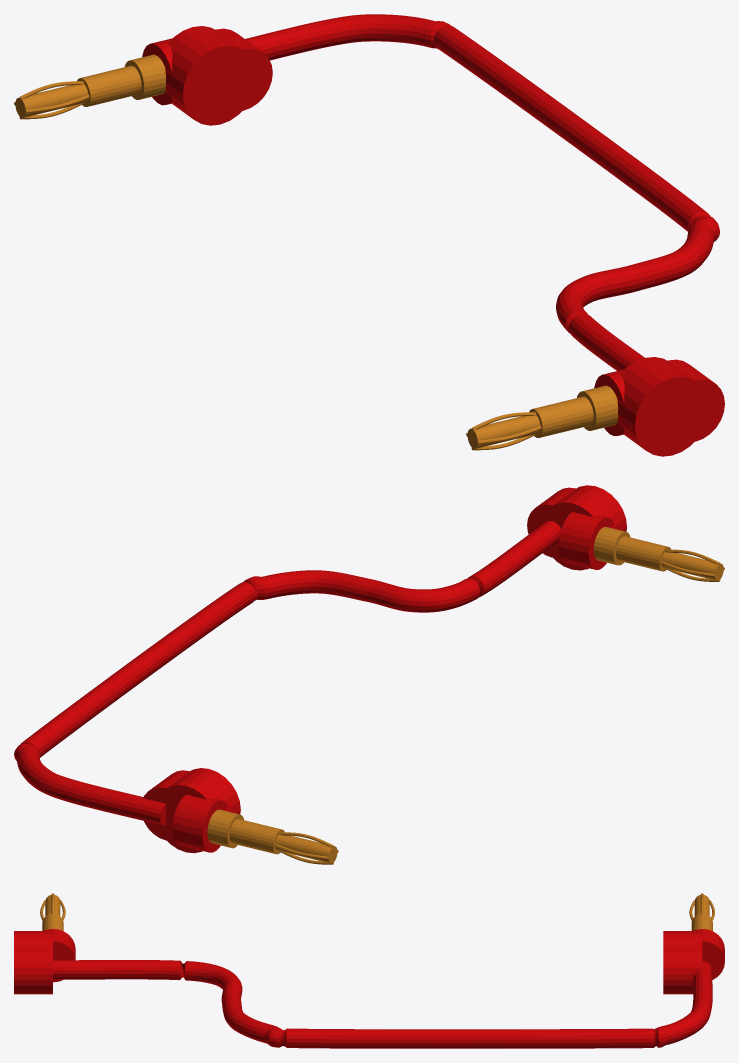
Rendered from Red_Cable_RightAngle.obj.
3 views of the same model, one above another, from view 1: azimuth 30°, elevation 25°; view 2: azimuth 150°, elevation 25°; view 3: azimuth 270°, elevation 25° (orthographic). The views are drawn at different scales.
Visible parts, largest first — view 1: Red_Cable_S_Bend, Bottom_Grip_Flange, Top_Grip_Flange, Top_Housing, Bottom_Housing, Top_Brass_Shank, Bottom_Brass_Shank, Bottom_Contact_Core, Top_Contact_Core, Top_Brass_Base, Bottom_Brass_Base, Bottom_Front_Collar (+1 smaller); view 2: Red_Cable_S_Bend, Bottom_Grip_Flange, Bottom_Front_Collar, Top_Front_Collar, Top_Grip_Flange, Bottom_Housing, Bottom_Brass_Shank, Top_Brass_Shank, Top_Housing, Bottom_Contact_Core, Top_Contact_Core, Top_Brass_Base (+1 smaller); view 3: Red_Cable_S_Bend, Top_Housing, Bottom_Housing, Bottom_Front_Collar, Top_Front_Collar, Bottom_Grip_Flange, Top_Grip_Flange, Top_Brass_Shank, Bottom_Brass_Shank.
Part boxes in pixels (<box>): Red_Cable_S_Bend: <box>245,14,719,370</box>; Bottom_Grip_Flange: <box>165,26,256,125</box>; Top_Grip_Flange: <box>617,357,709,456</box>; Top_Housing: <box>666,359,724,442</box>; Bottom_Housing: <box>214,28,272,111</box>; Top_Brass_Shank: <box>529,396,593,437</box>; Bottom_Brass_Shank: <box>77,65,141,106</box>; Bottom_Contact_Core: <box>15,84,88,117</box>; Top_Contact_Core: <box>467,415,540,448</box>; Top_Brass_Base: <box>577,385,618,430</box>; Bottom_Brass_Base: <box>124,54,165,99</box>; Bottom_Front_Collar: <box>142,38,172,105</box>; Red_Cable_S_Bend: <box>14,521,561,825</box>; Bottom_Grip_Flange: <box>156,768,240,853</box>; Bottom_Front_Collar: <box>172,794,228,852</box>; Top_Front_Collar: <box>558,512,614,569</box>; Top_Grip_Flange: <box>541,485,626,570</box>; Bottom_Housing: <box>143,770,189,840</box>; Bottom_Brass_Shank: <box>229,819,284,854</box>; Top_Brass_Shank: <box>616,536,671,571</box>; Top_Housing: <box>527,487,575,558</box>; Bottom_Contact_Core: <box>275,835,337,863</box>; Top_Contact_Core: <box>661,552,723,580</box>; Top_Brass_Base: <box>593,527,630,565</box>; Red_Cable_S_Bend: <box>53,960,712,1048</box>; Top_Housing: <box>14,947,52,994</box>; Bottom_Housing: <box>663,947,702,994</box>; Bottom_Front_Collar: <box>693,929,724,979</box>; Top_Front_Collar: <box>44,929,75,982</box>; Bottom_Grip_Flange: <box>663,931,702,947</box>; Top_Grip_Flange: <box>14,931,52,947</box>; Top_Brass_Shank: <box>42,913,63,931</box>; Bottom_Brass_Shank: <box>691,913,712,931</box>.
Size of the model in its own units: 0.1034 by 0.019 by 0.219.
